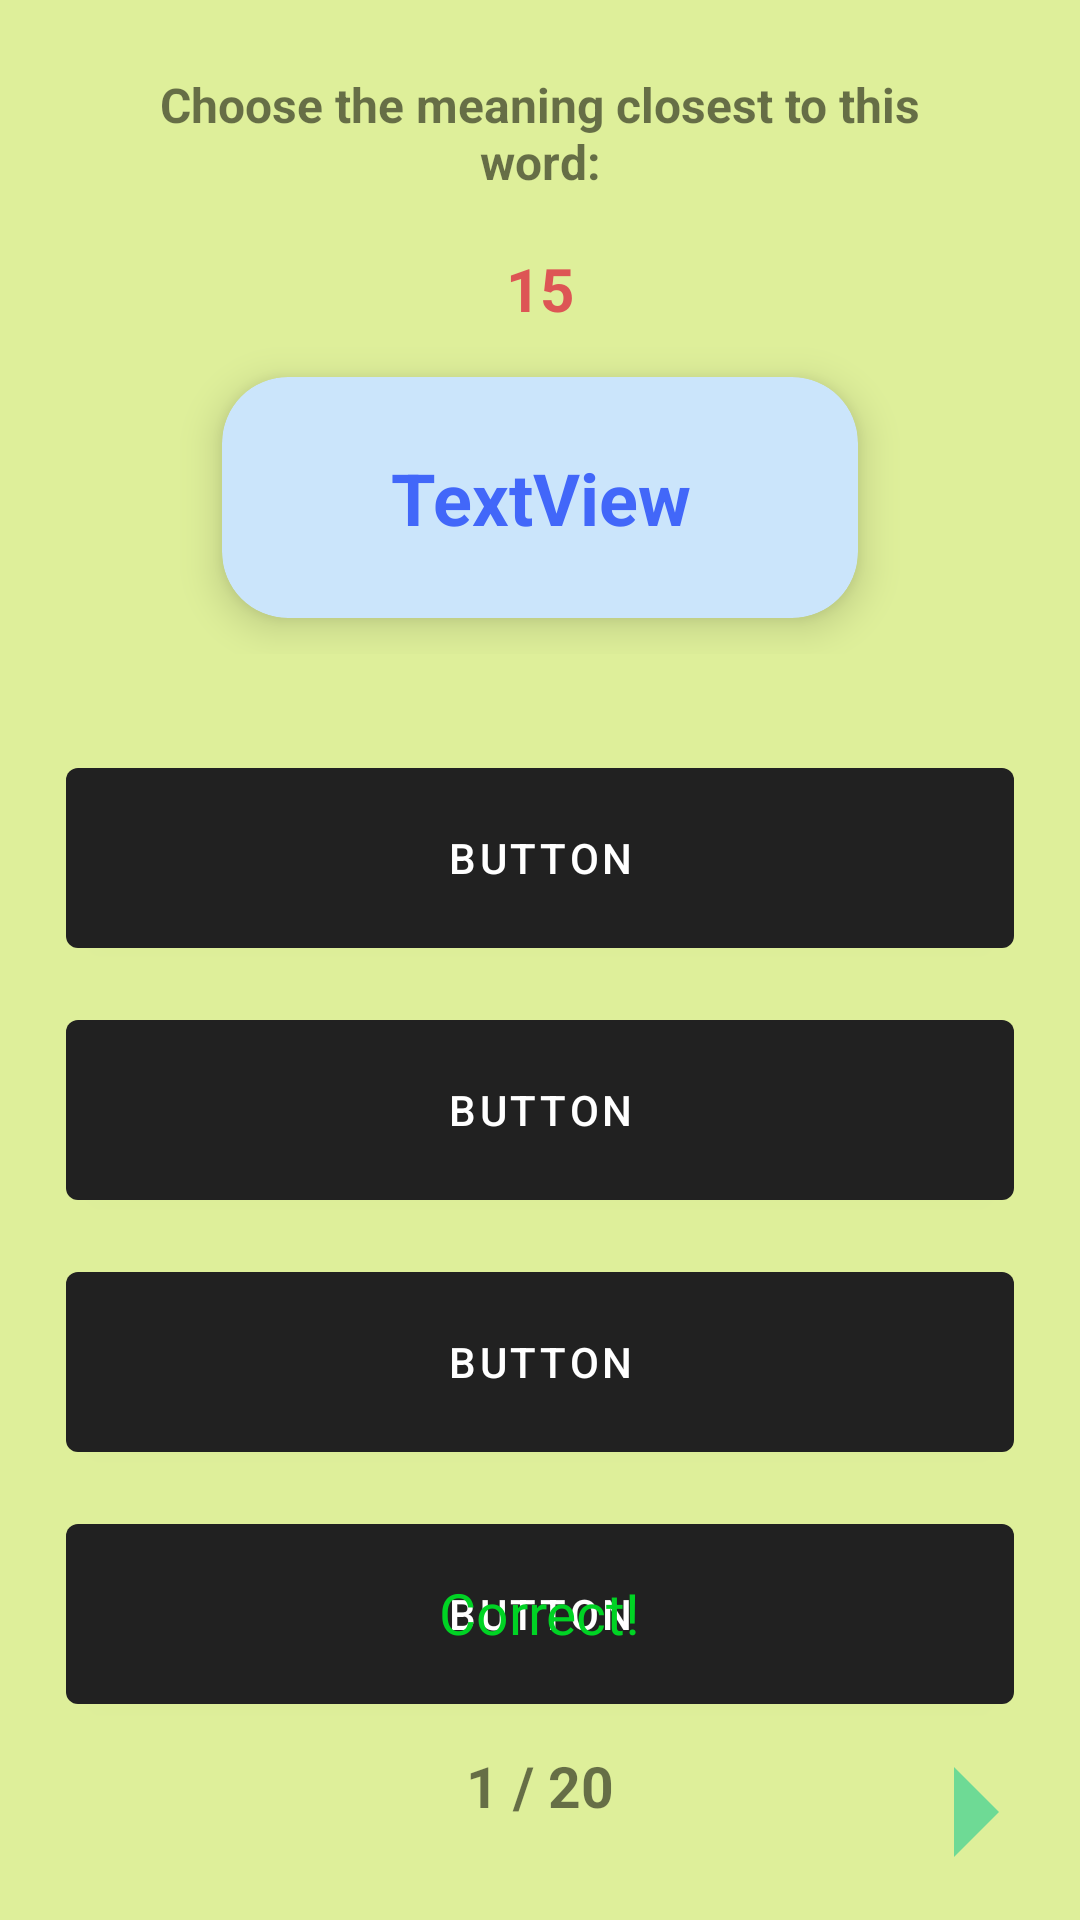

Where to tap for icons on this 1080x1920 app screen, as (x,y):
arrow right: (976,1812)
